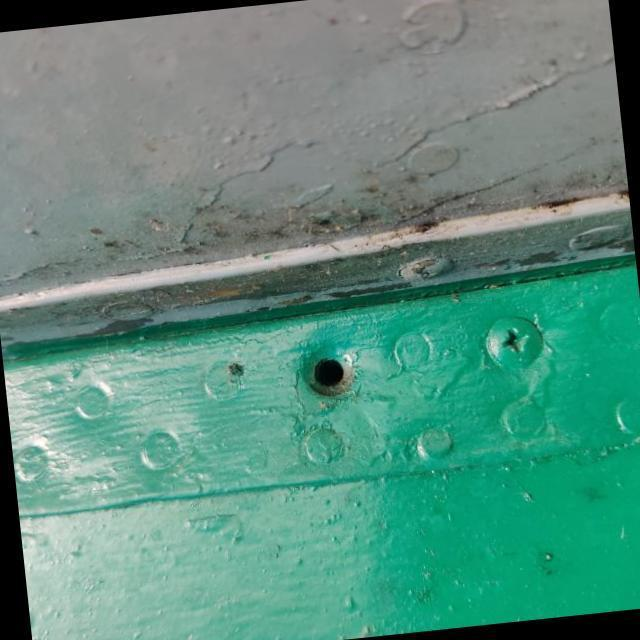Missing Fastener: (295, 335, 369, 407)
